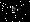person: (14, 5, 22, 16)
